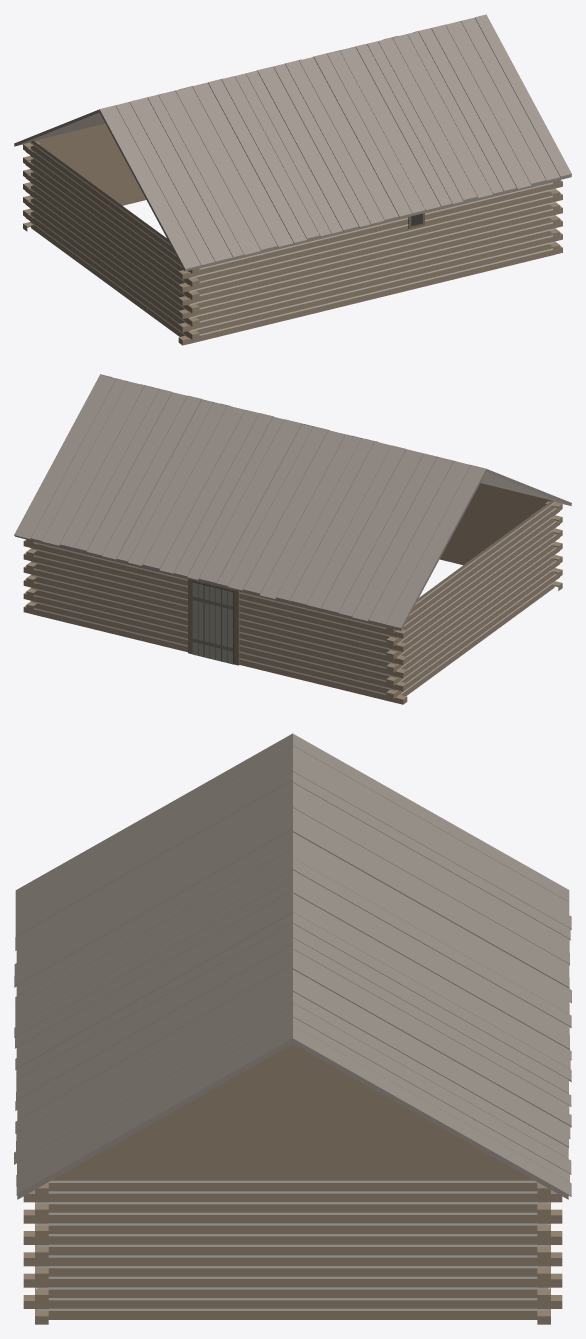
Rendered from clybourn_slaughterhouse__log_1827.glb.
3 views of the same model, one above another, from view 1: azimuth 30°, elevation 25°; view 2: azimuth 150°, elevation 25°; view 3: azimuth 270°, elevation 25° (orthographic). The views are drawn at different scales.
Parts seen in each view (by area): view 1: clybourn_slaughterhouse__log_1827; view 2: clybourn_slaughterhouse__log_1827; view 3: clybourn_slaughterhouse__log_1827.
Boxes of the visible parts, x1,y1,x2,y2 form: clybourn_slaughterhouse__log_1827: (14,14,571,345); clybourn_slaughterhouse__log_1827: (14,374,571,704); clybourn_slaughterhouse__log_1827: (14,733,571,1324).
Size of the model in its own units: 12.7 by 5.65 by 9.82.
1 material, 1 textured.
